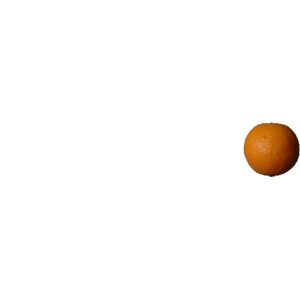laranja: (242, 117, 299, 185)
